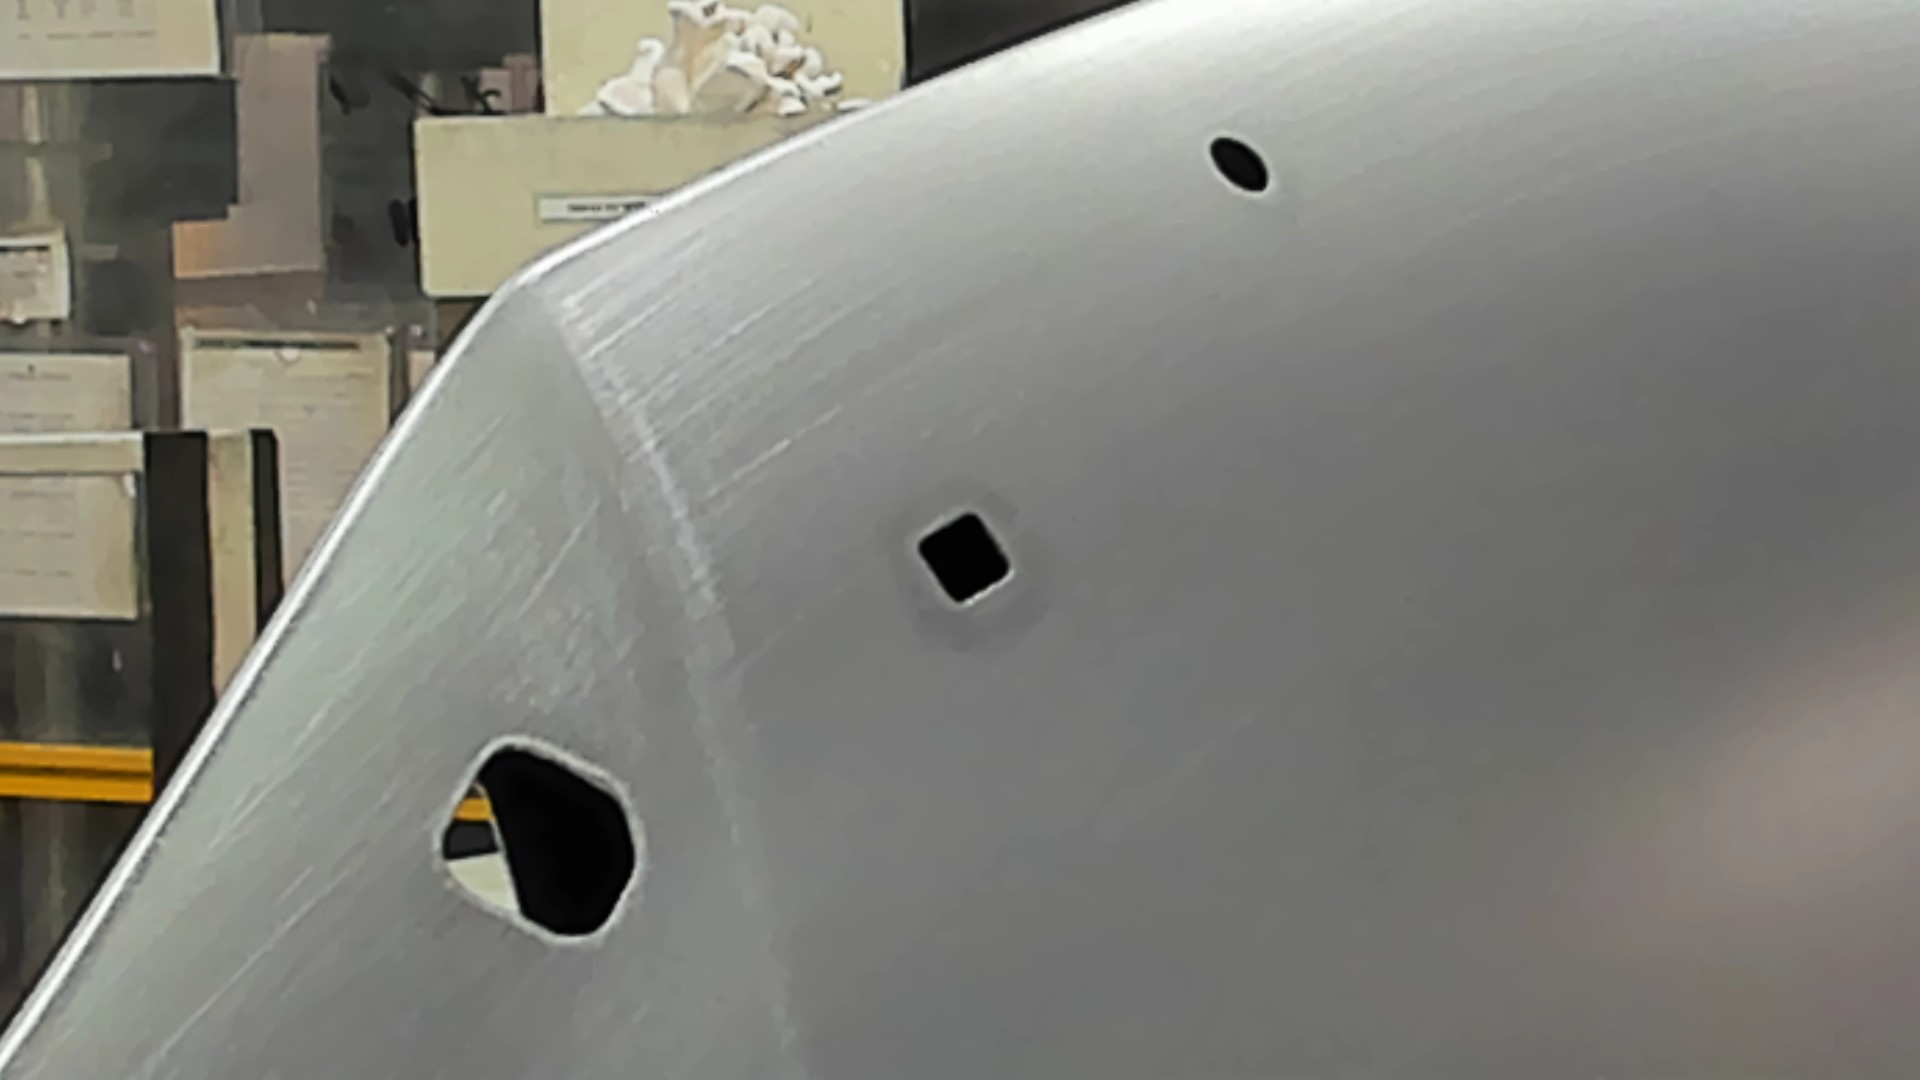chico: (1204, 123, 1276, 199)
grande: (429, 728, 647, 953)
mediano: (906, 498, 1019, 618)
